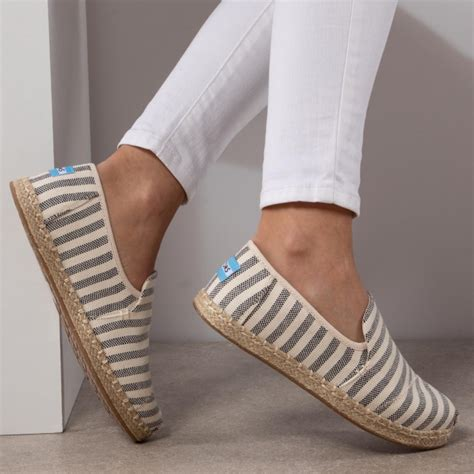nylon: (27, 163, 458, 432)
